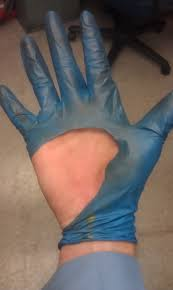defected: (1, 6, 173, 223)
